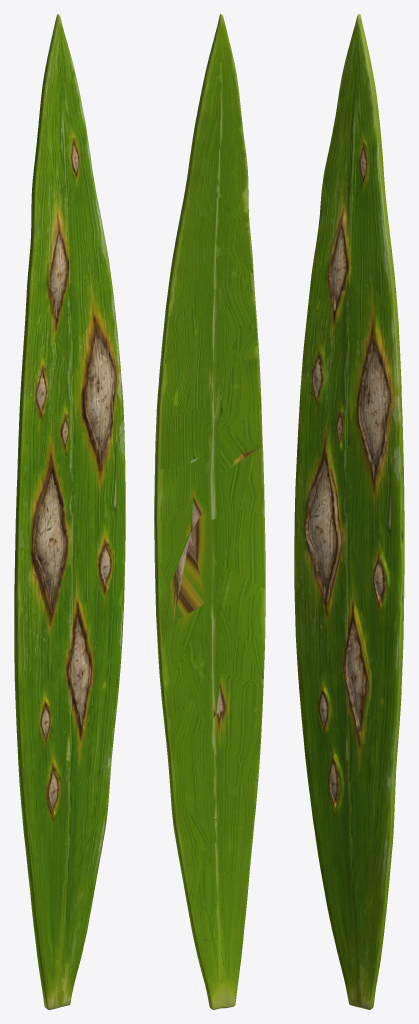
Rendered from rice_leaf_blast.glb.
3 renders of one model, left to right at view 1: azimuth 30°, elevation 25°; view 2: azimuth 210°, elevation 25°; view 3: azimuth 330°, elevation 25°, orthographic.
Visible parts, largest first — view 1: rice_leaf_blast; view 2: rice_leaf_blast; view 3: rice_leaf_blast.
Boxes of the visible parts, left/top/right/bottom form: rice_leaf_blast: left=14, top=14, right=125, bottom=1009; rice_leaf_blast: left=154, top=14, right=265, bottom=1009; rice_leaf_blast: left=294, top=14, right=404, bottom=1009.
Size of the model in its own units: 0.1141 by 0.9999 by 0.0392.
1 material, 1 textured.
